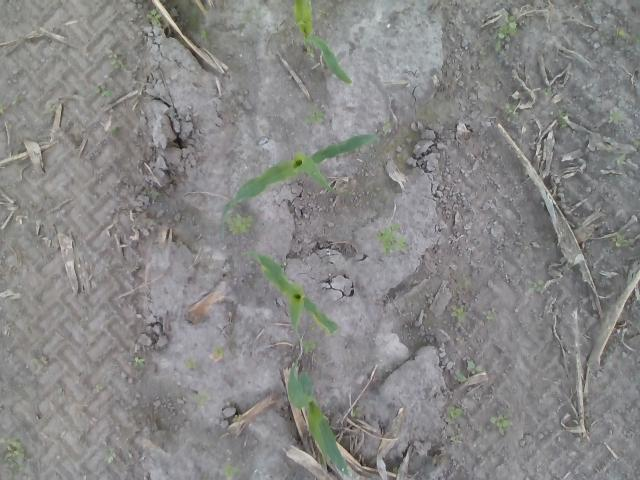Maize: (216, 134, 376, 214), (238, 250, 341, 334), (287, 358, 354, 478), (294, 0, 355, 83)
Weeds: (375, 222, 410, 254), (0, 435, 25, 475), (495, 11, 518, 52), (225, 212, 255, 236), (453, 359, 482, 382), (489, 410, 513, 430), (106, 48, 128, 68), (445, 406, 465, 426), (300, 339, 320, 354), (222, 462, 240, 478), (528, 278, 544, 295), (95, 80, 112, 96), (306, 110, 324, 125), (608, 109, 624, 125), (146, 8, 161, 25), (449, 304, 464, 320), (611, 231, 625, 247), (610, 153, 624, 168), (610, 26, 626, 38), (558, 111, 569, 128), (212, 344, 225, 356), (449, 434, 464, 444), (351, 406, 363, 418), (184, 358, 198, 368), (104, 448, 112, 464), (482, 310, 494, 320), (506, 103, 516, 115), (630, 32, 640, 43), (318, 7, 328, 18), (306, 47, 316, 57), (134, 356, 145, 365), (383, 116, 391, 128), (201, 30, 209, 42), (544, 88, 554, 96), (583, 0, 592, 8), (95, 384, 103, 392), (0, 102, 4, 114)
